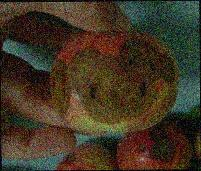rotten apple: (47, 28, 183, 134), (116, 122, 192, 169), (55, 141, 115, 170)
